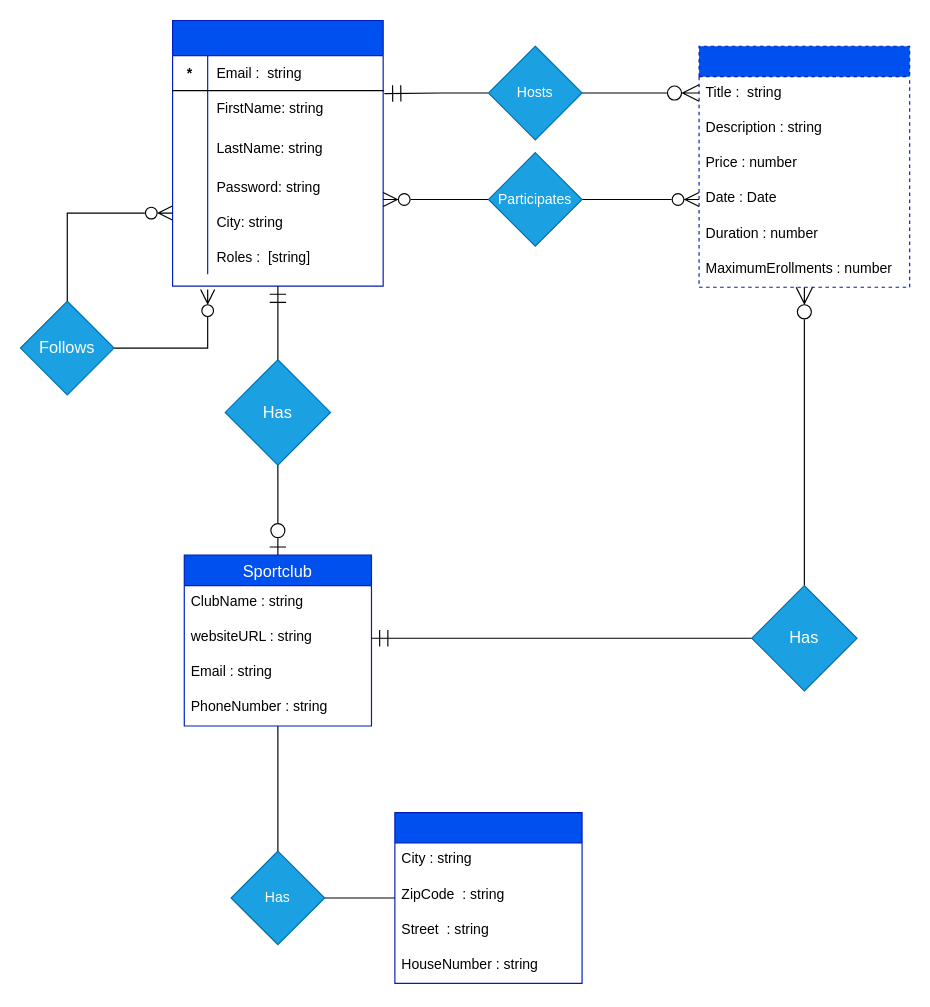
Some shapes in this 930 by 1007 pixel diagram are drawn without their labels. Here are the shapes that lost their labels. From the top down, the box of each, then its label:
(171, 19, 383, 286): User
(698, 45, 910, 287): SportEvent
(394, 811, 582, 983): Address
